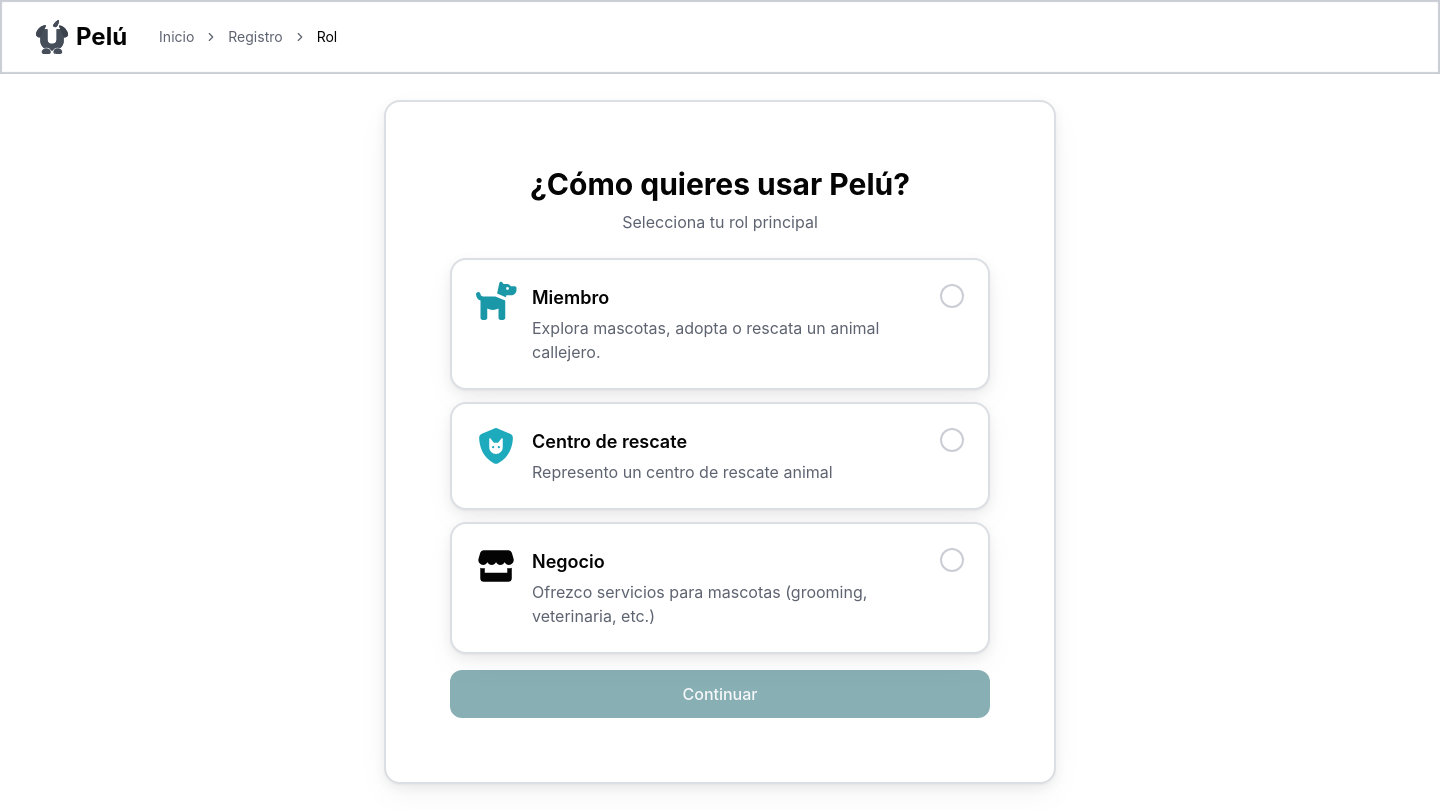
Scenario: RoleSelection — where a pick lands › stays put and shows the error when the role update fails
The width and height of the screenshot is (1440, 810).
Click the button "Negocio".
click(720, 588)  # box [450,522,990,654]
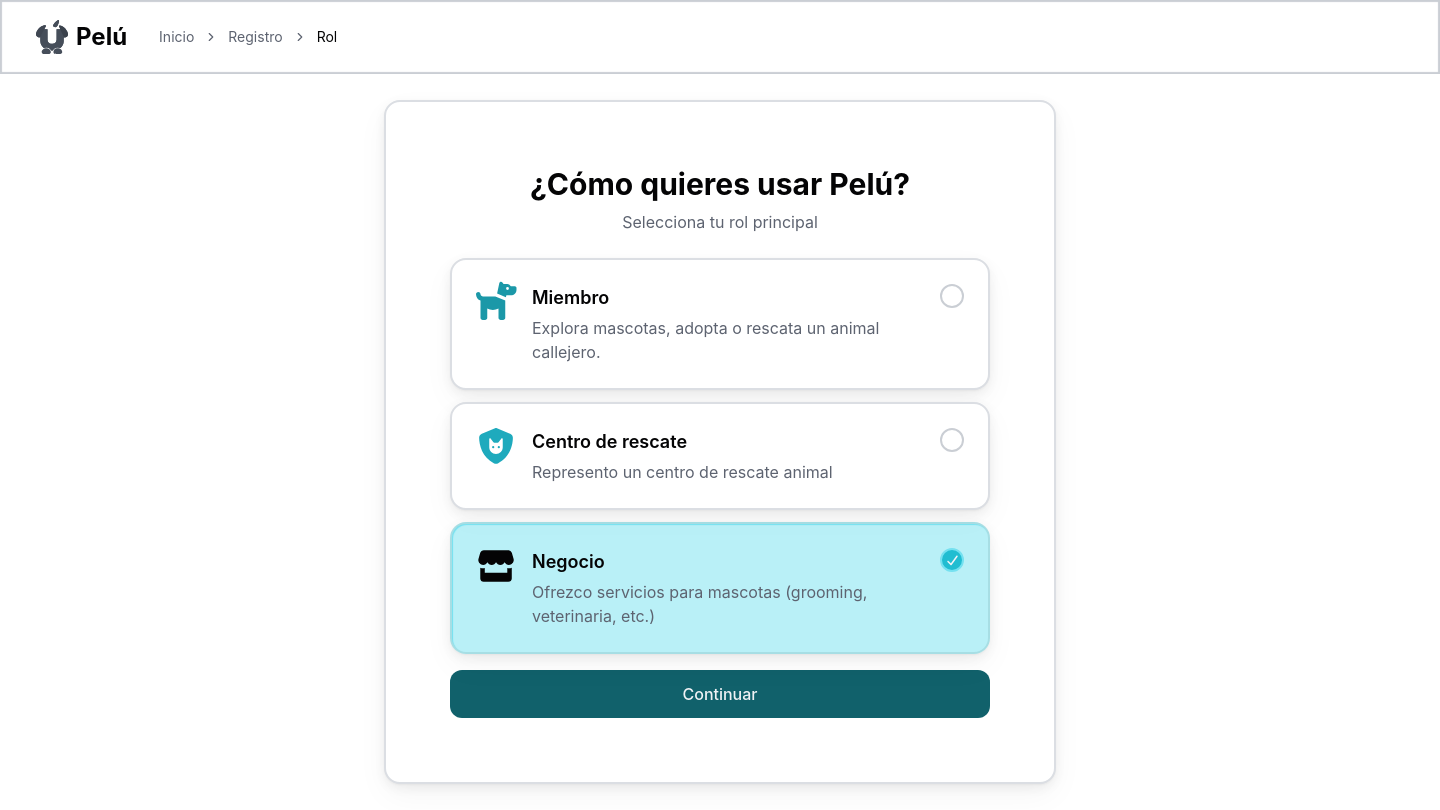
Click the button "Continuar".
click(720, 694)  # box [450,670,990,718]
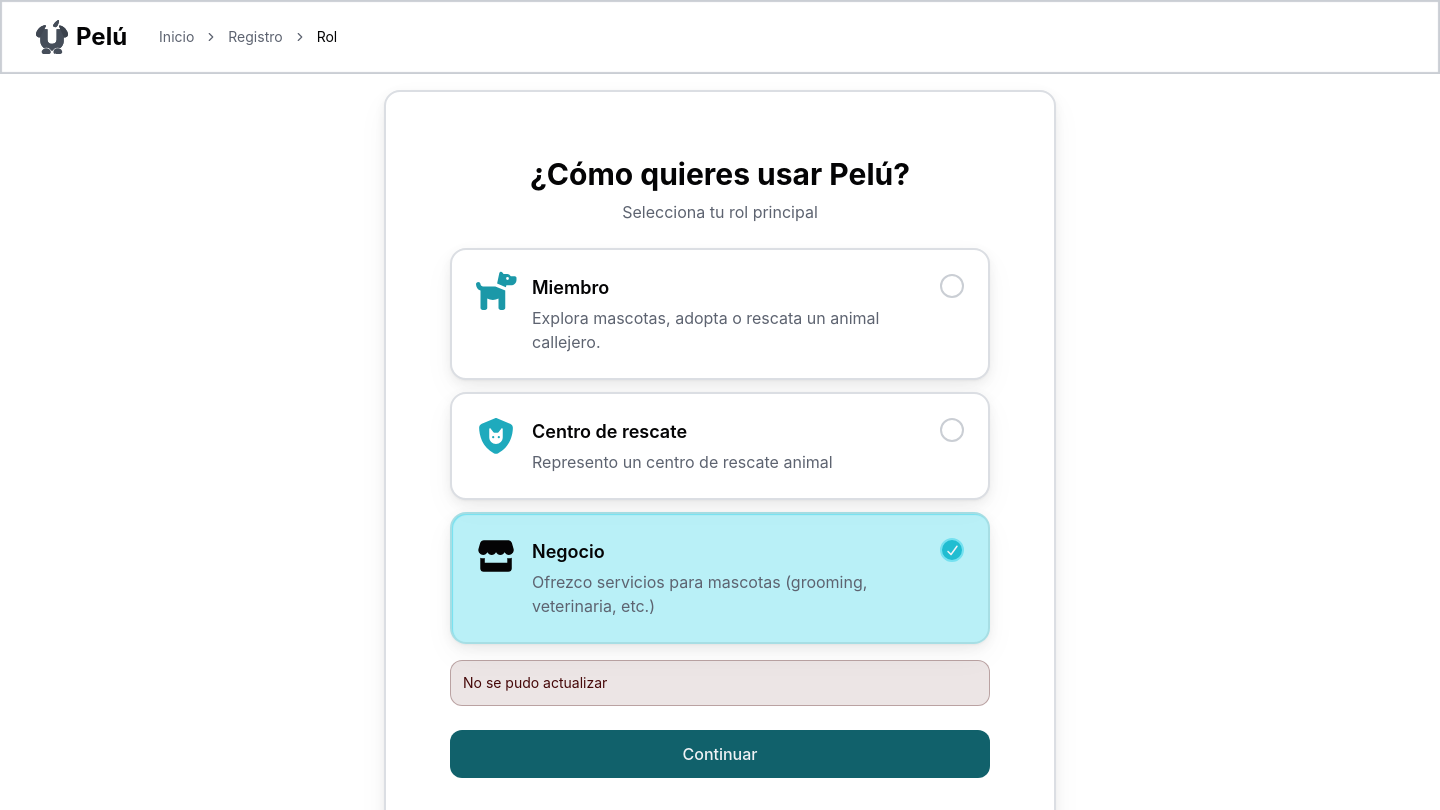
Check: the text "No se pudo actualizar" is shown, box [450,660,990,706]
